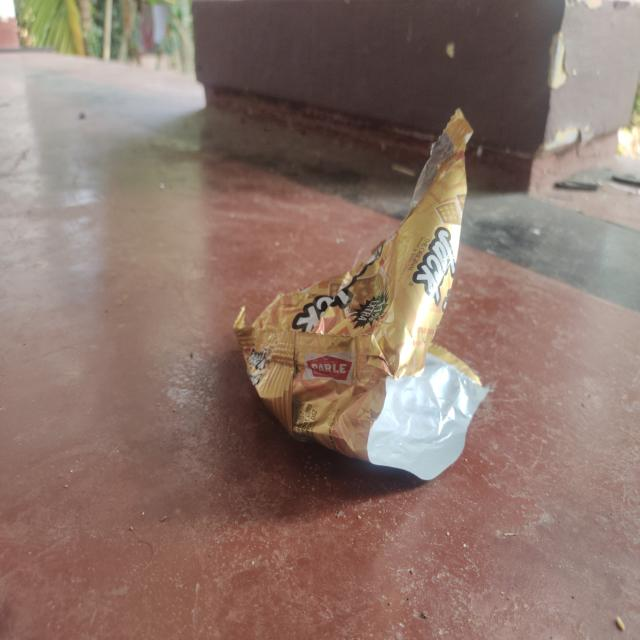plastic: (235, 107, 494, 486)
